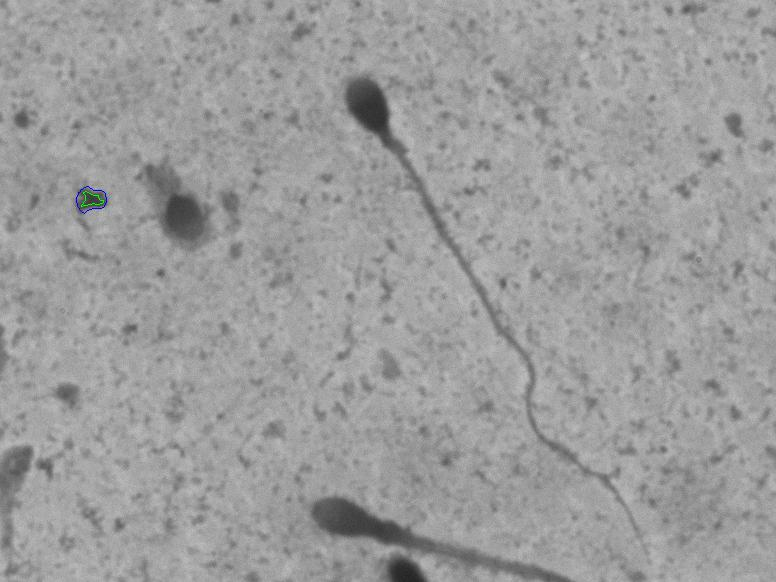Abnormal: (114, 114, 263, 269)
Normal: (313, 47, 665, 567)
